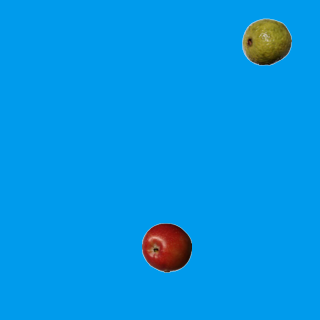Apple Braeburn: (141, 222, 191, 272)
Guava: (241, 16, 291, 66)
